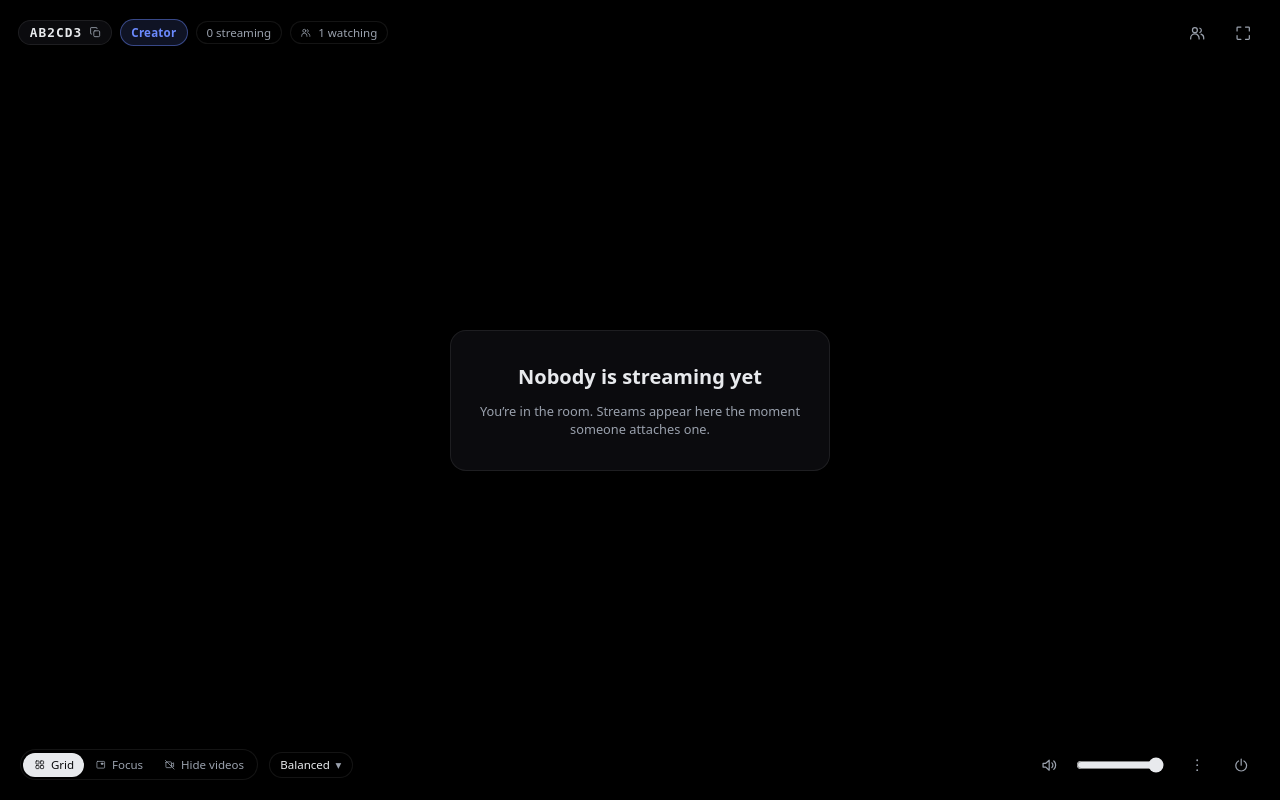
it: RoomScreen people-and-chat panel › a creator watching from a tab (a native "Open room view") is not offered "start streaming here"
Expected: the heading "Nobody is streaming yet" is shown, [518,362,762,390]
Click the button named "People and chat".
click(1197, 33)  # box [1178,14,1216,52]
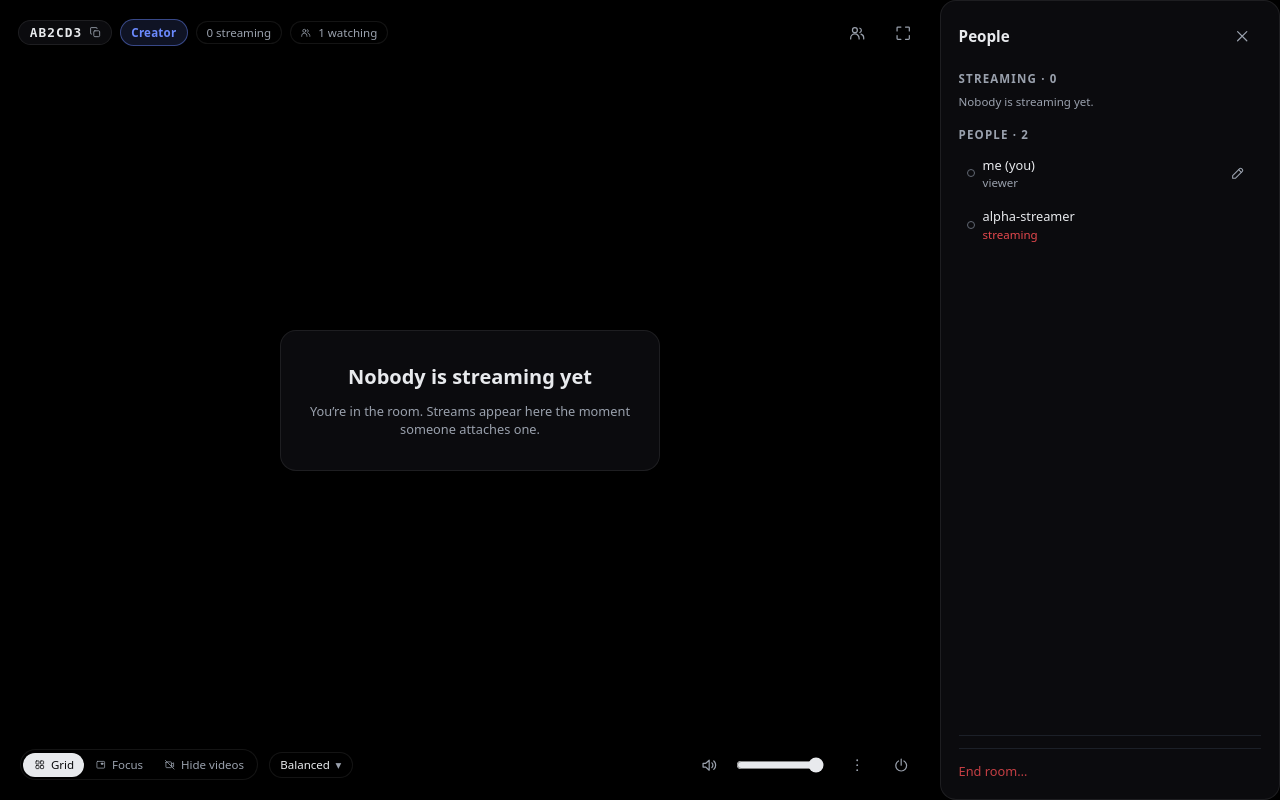
Now the button "End room…" is shown, box [959,759,1027,783]
